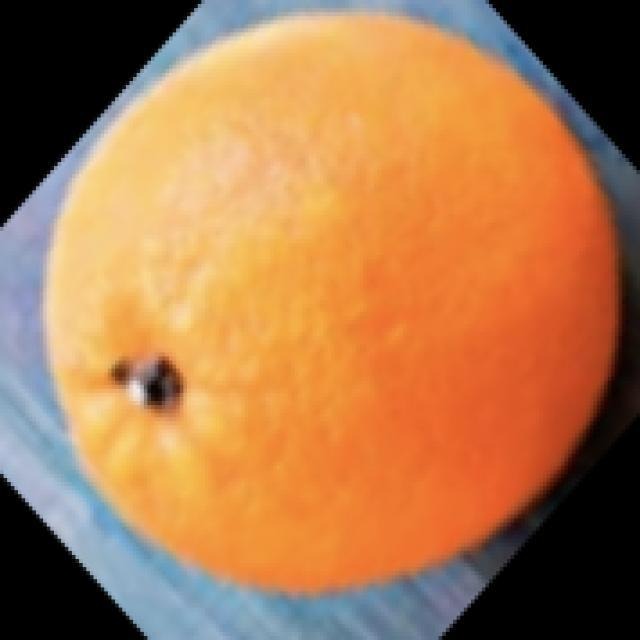Orange: (41, 8, 624, 597)
